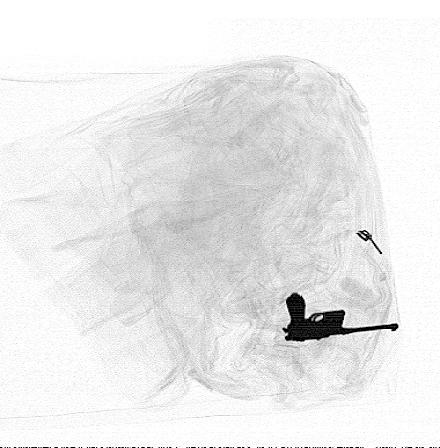Gun: (283, 293, 400, 340)
